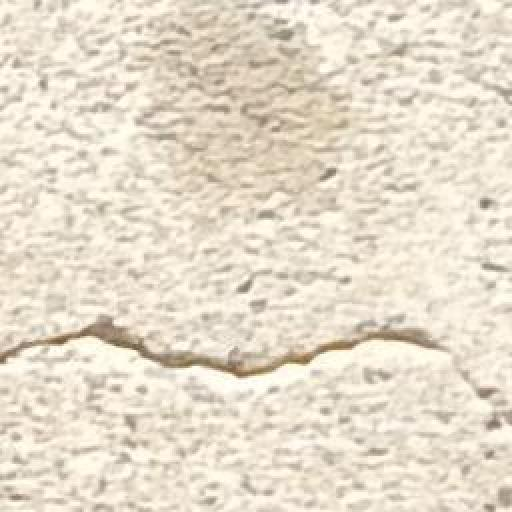spalling: (0, 307, 506, 441)
